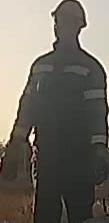gloves: (0, 139, 24, 182), (88, 144, 109, 186)
helmet: (49, 1, 86, 28)
vest: (28, 48, 108, 147)
